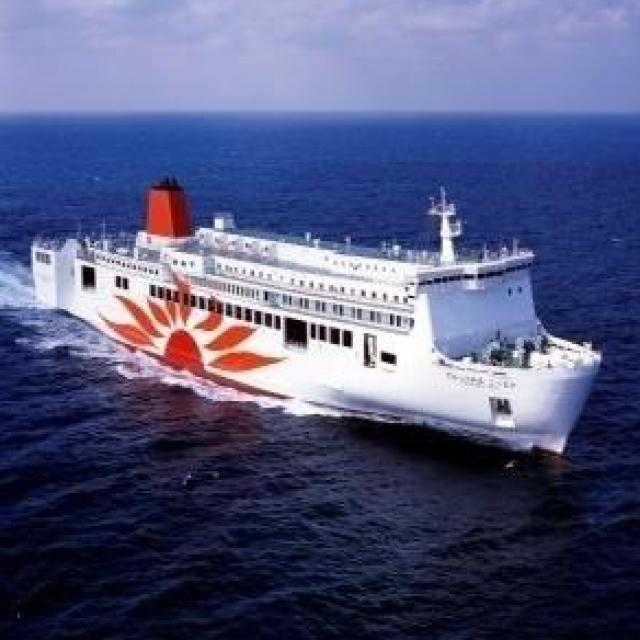cargoship: (24, 170, 601, 455)
